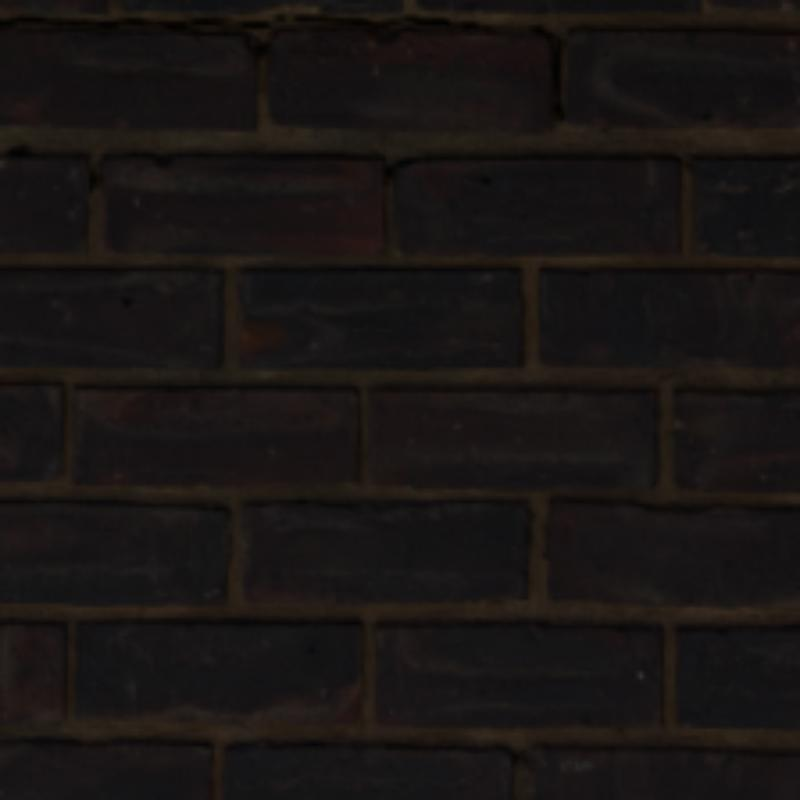crack: (0, 14, 405, 25), (521, 25, 564, 118), (419, 18, 521, 29)
